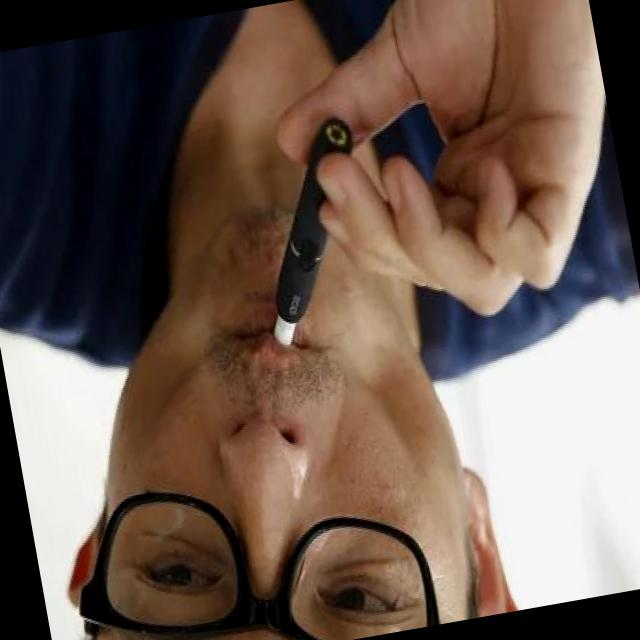cigarette: (238, 108, 398, 356)
